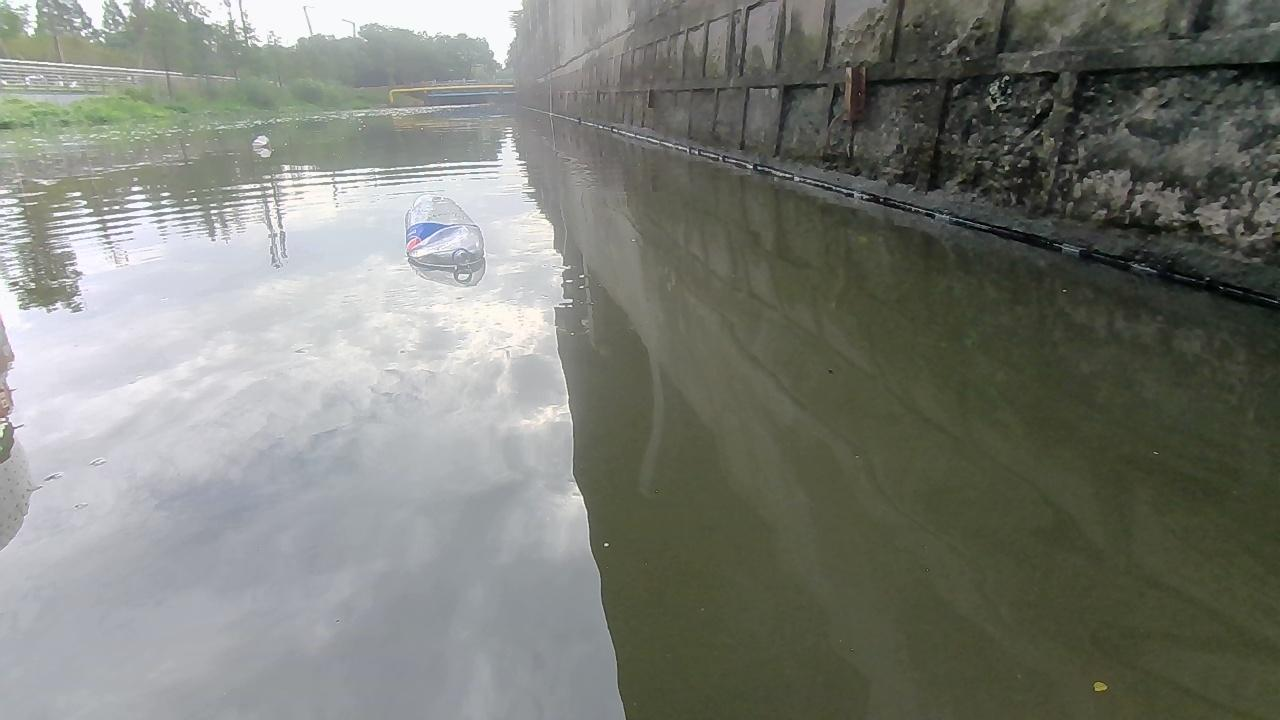bottle: (404, 197, 486, 278), (245, 132, 268, 148)
